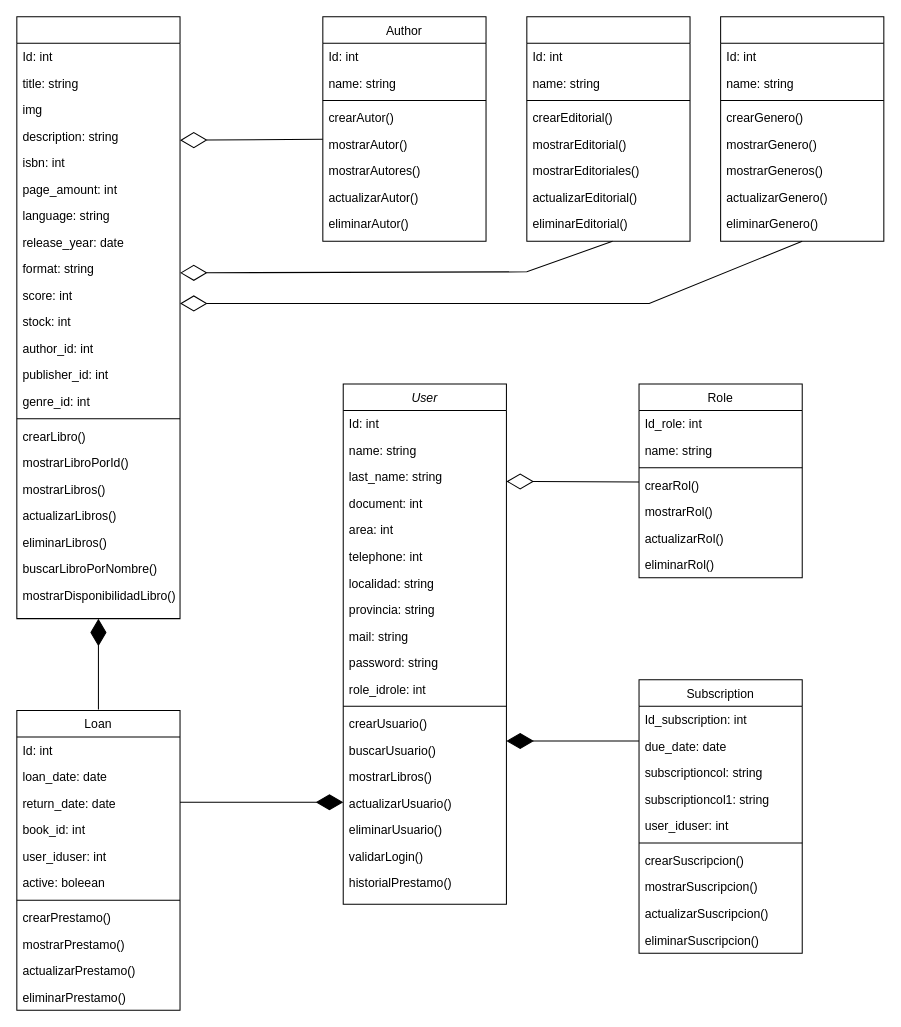
The diagram is 901 pixels wide and 1027 high, and some of its shapes have lost their labels. The box of each missing label's shape, as (x1, y1, x2, y2) in pixels:
Book: (16, 16, 180, 619)
Genre: (720, 16, 884, 241)
Publisher: (526, 16, 690, 241)
